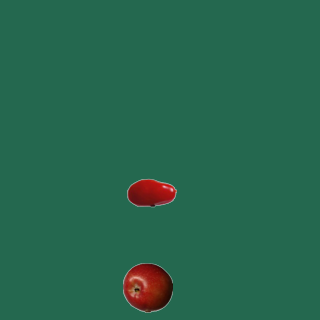Apple Braeburn: (122, 262, 172, 312)
Tomato 2: (126, 167, 176, 217)
